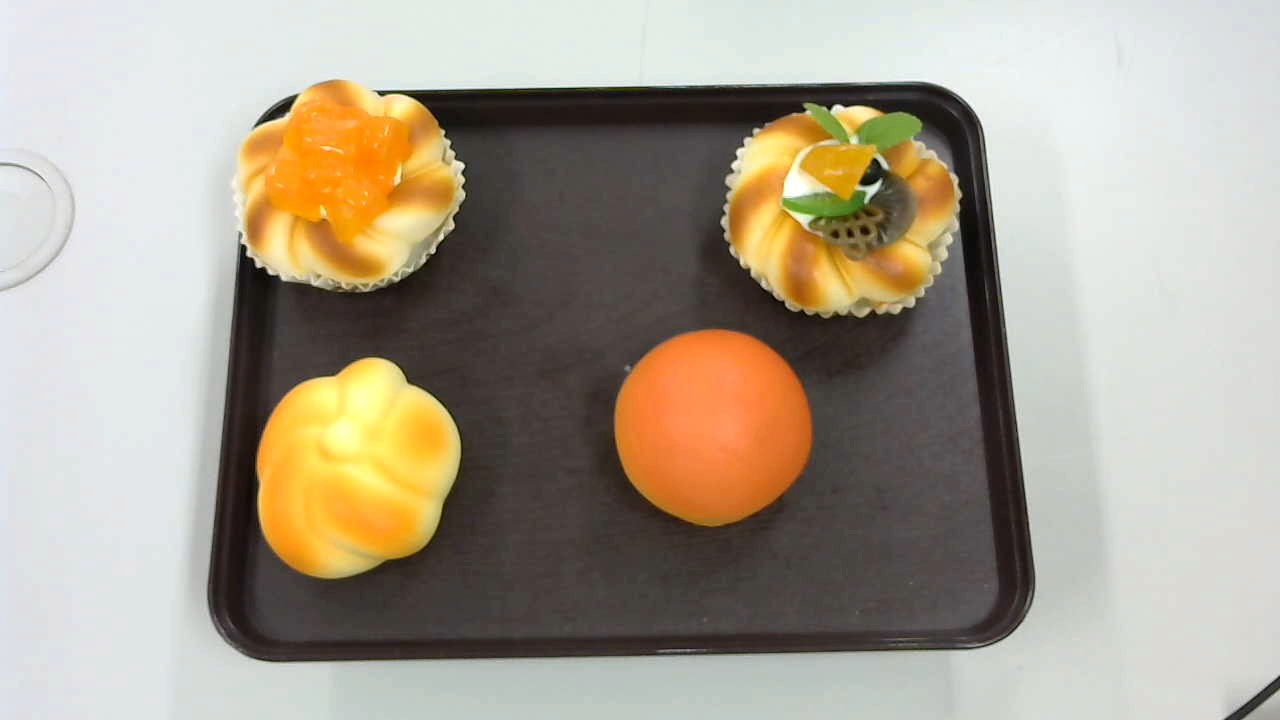bun: (610, 327, 814, 527)
fruit tart: (724, 104, 962, 317)
mango tart: (234, 80, 467, 291)
twist bread: (255, 357, 462, 579)
